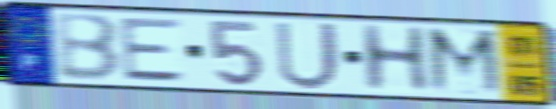5: (206, 19, 268, 88)
B: (51, 12, 124, 83)
E: (117, 17, 189, 84)
H: (357, 22, 434, 94)
M: (424, 25, 508, 99)
U: (272, 19, 343, 92)
